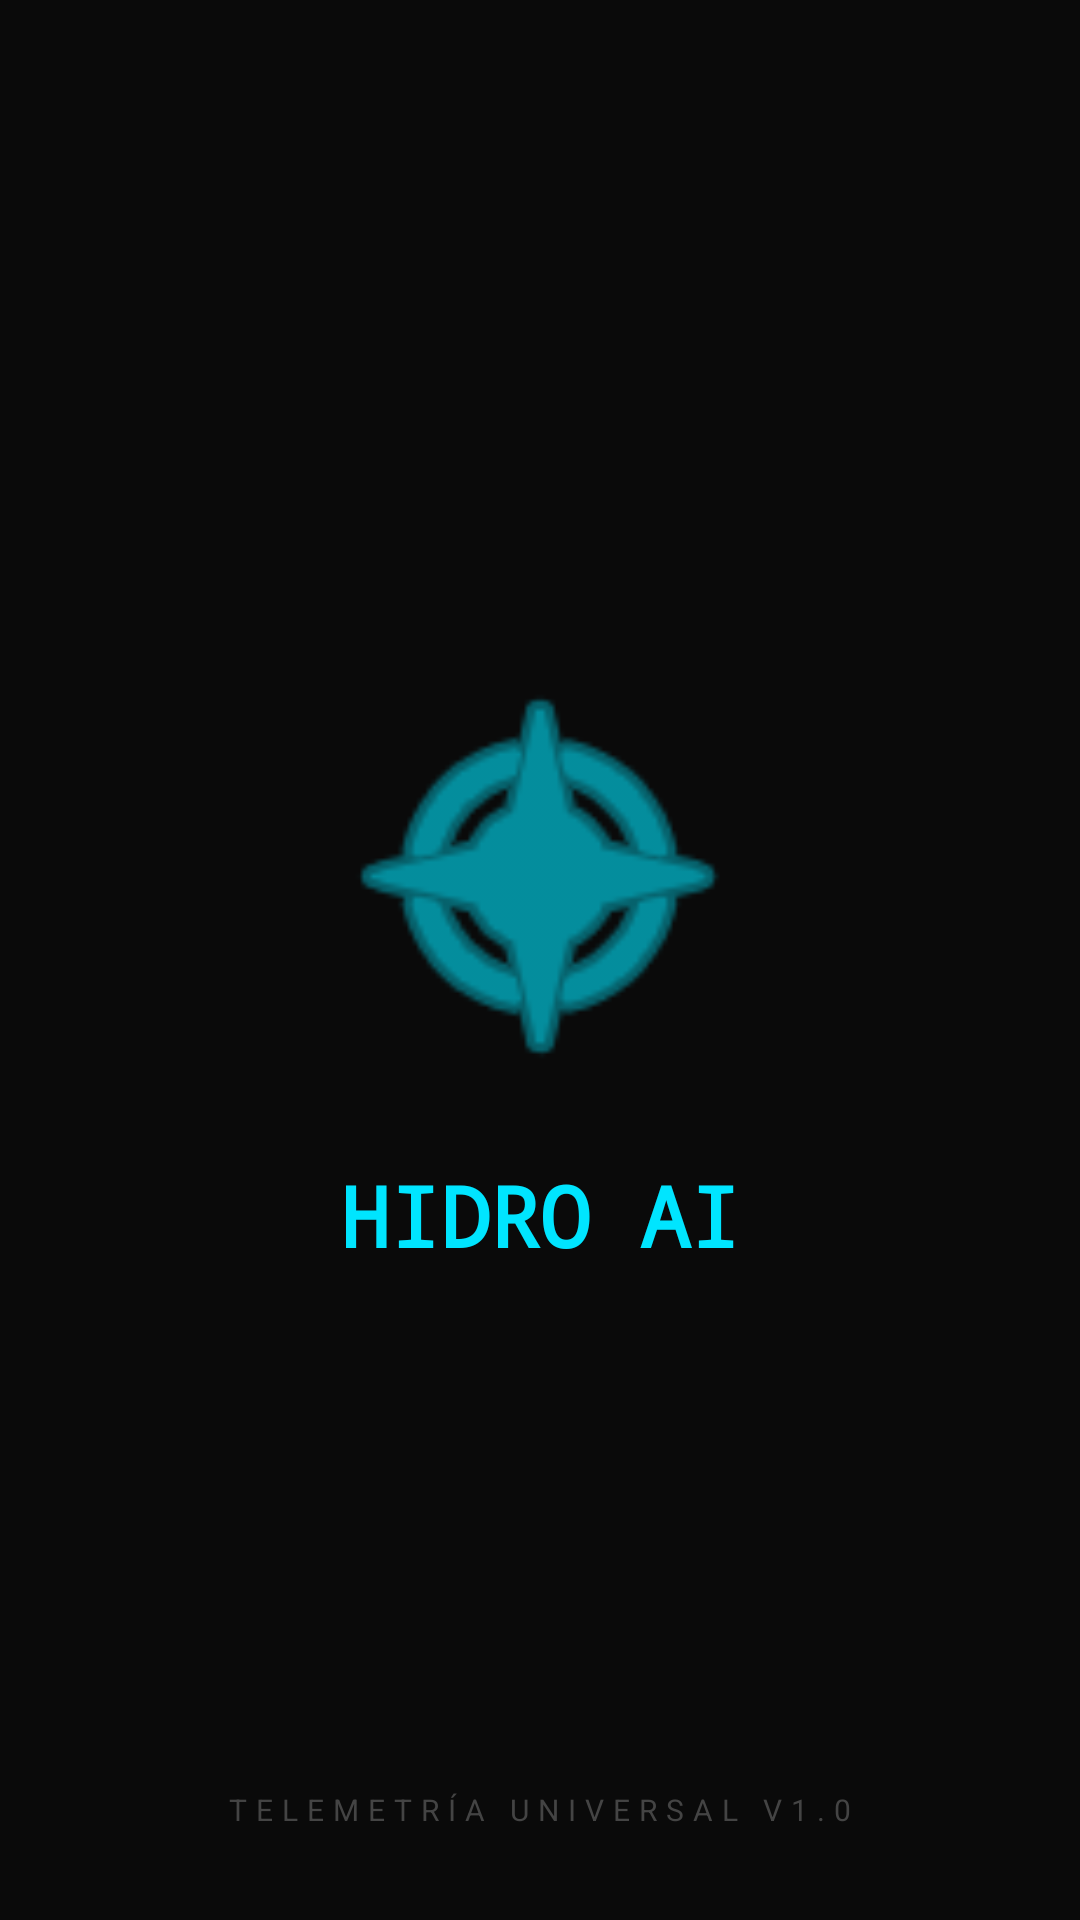

Named icons in this screenshot (1080x1920) and their centers, (x,y):
compass: (538,876)
